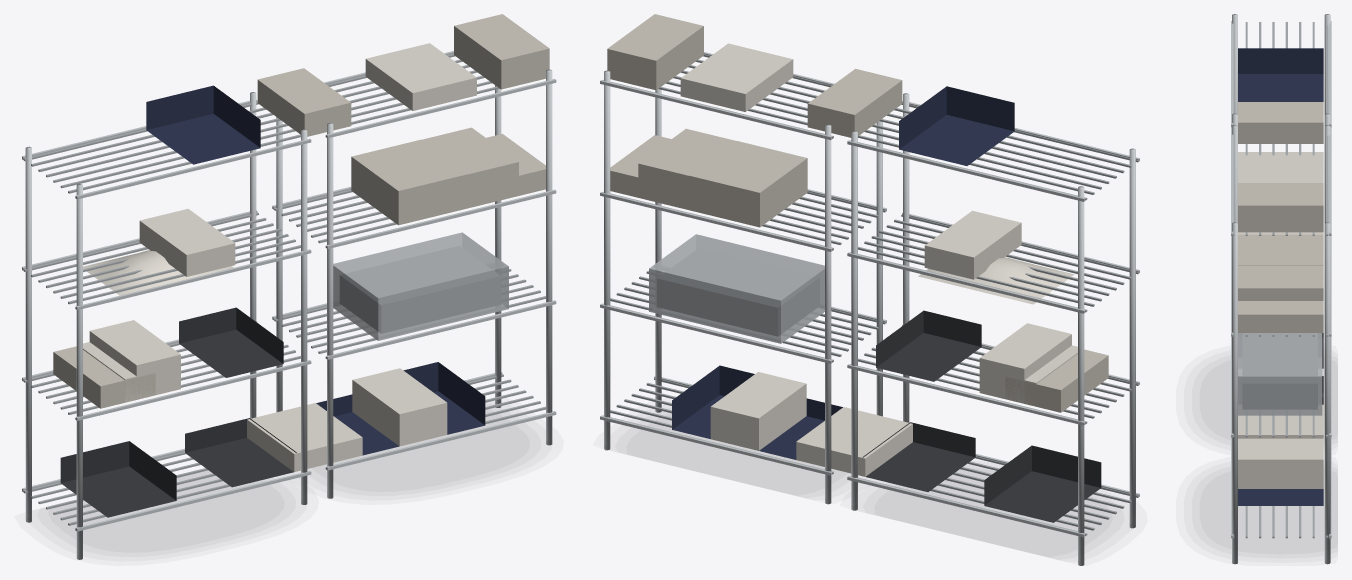
File: master_closet_shelving.glb
The picture shows the model from 3 angles, left to right: view 1: azimuth 30°, elevation 25°; view 2: azimuth 150°, elevation 25°; view 3: azimuth 270°, elevation 25°; orthographic projection. The views are drawn at different scales.
Visible parts, largest first — view 1: root; view 2: root; view 3: root.
Boxes of the visible parts, x1,y1,x2,y2 form: root: (22,14,556,559); root: (600,14,1139,565); root: (1199,14,1337,564).
Bounding box in the file's own units: 2.82 × 2.11 × 0.8627.
